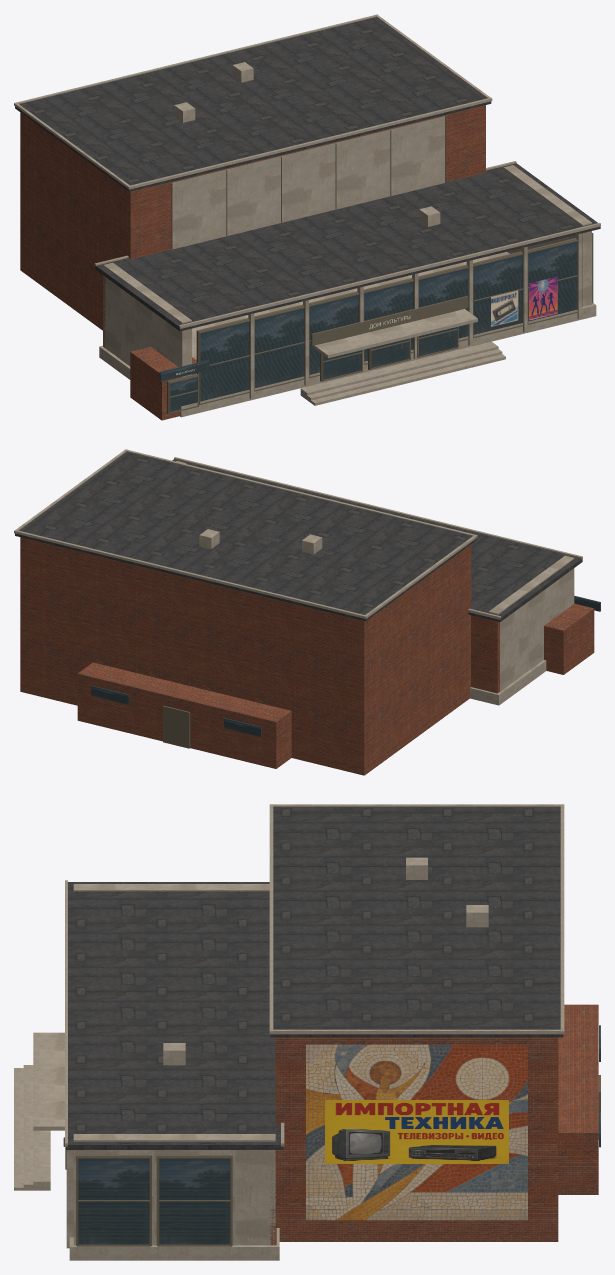
File: culture_house.glb
The picture shows the model from 3 angles, top to bottom: view 1: azimuth 30°, elevation 25°; view 2: azimuth 150°, elevation 25°; view 3: azimuth 270°, elevation 25°; orthographic projection. The views are drawn at different scales.
Parts seen in each view (by area): view 1: culture_house; view 2: culture_house; view 3: culture_house.
Boxes of the visible parts, x1,y1,x2,y2 form: culture_house: (14, 14, 600, 420); culture_house: (14, 449, 600, 775); culture_house: (14, 804, 600, 1260).
Size of the model in its own units: 32.2 by 12.6 by 29.06.
6 materials, 4 textured.
